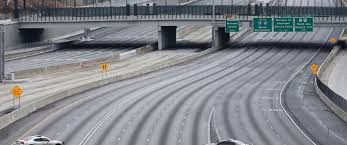strada: (59, 34, 325, 135)
